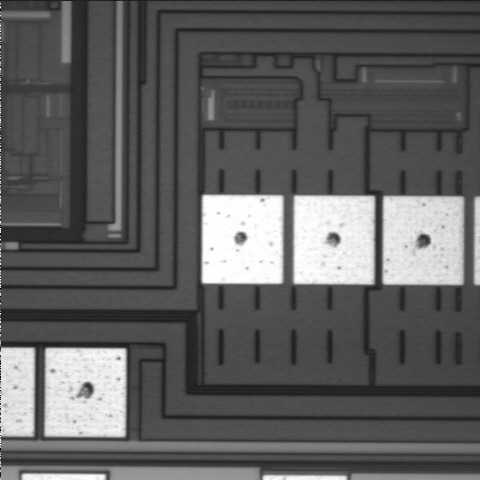pad: (293, 196, 375, 284), (202, 195, 283, 284), (45, 348, 126, 437), (383, 196, 463, 285)
